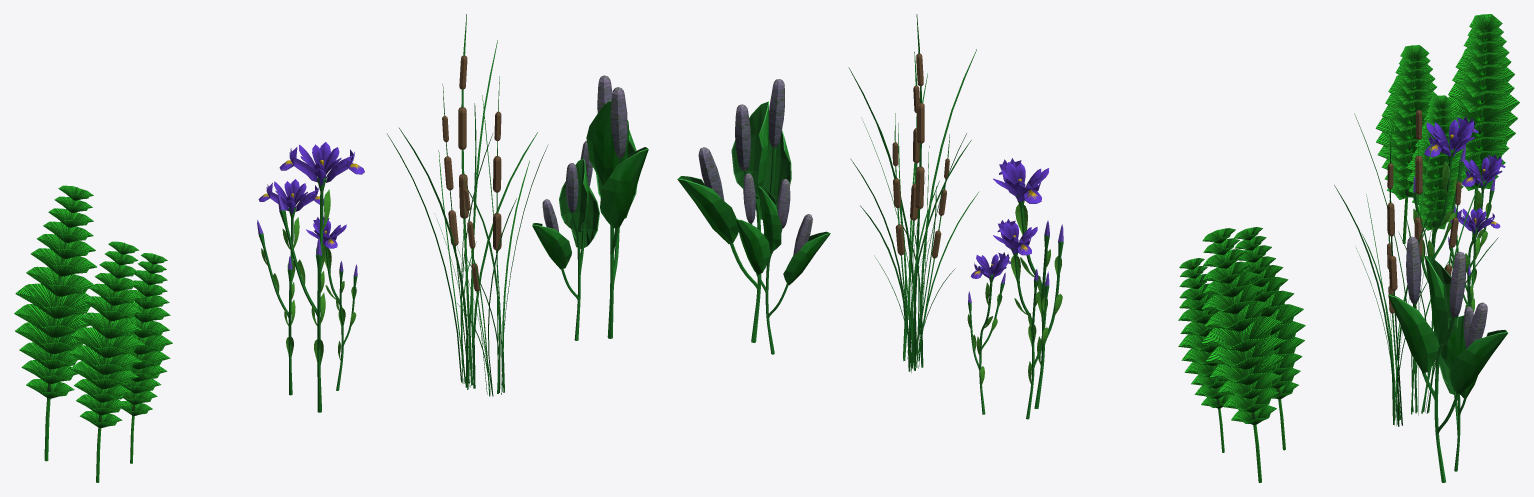
File: Plants_10.FBX
3 views of the same model, side by side, from view 1: azimuth 30°, elevation 25°; view 2: azimuth 150°, elevation 25°; view 3: azimuth 270°, elevation 25° (orthographic). The views are drawn at different scales.
Visible parts, largest first — view 1: Horsetail_0102, Horsetail_0100, Piskerelweed_0100, Horsetail_0101, Piskerelweed_0101, Iris_0101, Cattails_0103, Cattails_0101, Iris_0100, Cattails_0100, Iris_0102, Cattails_0102; view 2: Horsetail_0102, Piskerelweed_0100, Piskerelweed_0101, Horsetail_0100, Horsetail_0101, Cattails_0103, Iris_0101, Iris_0100, Cattails_0100, Cattails_0101, Iris_0102, Cattails_0102; view 3: Piskerelweed_0100, Horsetail_0102, Horsetail_0100, Horsetail_0101, Iris_0101, Cattails_0101, Cattails_0103, Piskerelweed_0101, Iris_0100, Cattails_0100, Iris_0102, Cattails_0102.
Boxes of the visible parts, box(x1,y1,x2,y2) form: Horsetail_0102: box(14, 185, 96, 461); Horsetail_0100: box(69, 241, 145, 482); Piskerelweed_0100: box(586, 75, 648, 338); Horsetail_0101: box(121, 253, 172, 463); Piskerelweed_0101: box(532, 141, 599, 340); Iris_0101: box(277, 142, 364, 412); Cattails_0103: box(399, 14, 537, 389); Cattails_0101: box(464, 76, 548, 394); Iris_0100: box(257, 179, 323, 395); Cattails_0100: box(387, 84, 492, 383); Iris_0102: box(306, 216, 357, 390); Cattails_0102: box(446, 164, 516, 396); Horsetail_0102: box(1201, 228, 1284, 482); Piskerelweed_0100: box(677, 79, 791, 342); Piskerelweed_0101: box(736, 173, 830, 354); Horsetail_0100: box(1233, 227, 1305, 450); Horsetail_0101: box(1178, 258, 1231, 452); Cattails_0103: box(848, 14, 976, 368); Iris_0101: box(993, 158, 1063, 408); Iris_0100: box(993, 219, 1049, 419); Cattails_0100: box(860, 113, 939, 372); Cattails_0101: box(850, 52, 971, 361); Iris_0102: box(967, 252, 1010, 414); Cattails_0102: box(900, 134, 979, 362); Piskerelweed_0100: box(1388, 236, 1507, 482); Horsetail_0102: box(1448, 14, 1519, 239); Horsetail_0100: box(1375, 45, 1437, 243); Horsetail_0101: box(1406, 95, 1465, 242); Iris_0101: box(1413, 116, 1478, 348); Cattails_0101: box(1334, 132, 1446, 426); Cattails_0103: box(1354, 74, 1455, 415); Piskerelweed_0101: box(1437, 306, 1477, 471); Iris_0100: box(1453, 154, 1505, 304); Cattails_0100: box(1398, 152, 1498, 413); Iris_0102: box(1448, 208, 1500, 312); Cattails_0102: box(1356, 200, 1432, 420).
Bounding box in the file's own units: 66.53 × 38.92 × 19.16.
